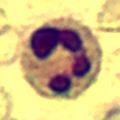neutrophil: (20, 16, 105, 102)
